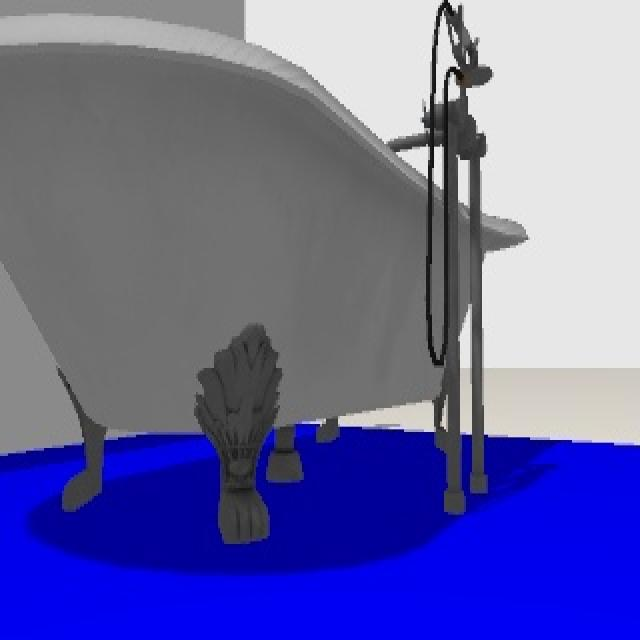bathtub: (0, 12, 522, 546)
